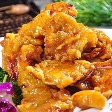guobaorou: (3, 2, 112, 112)
